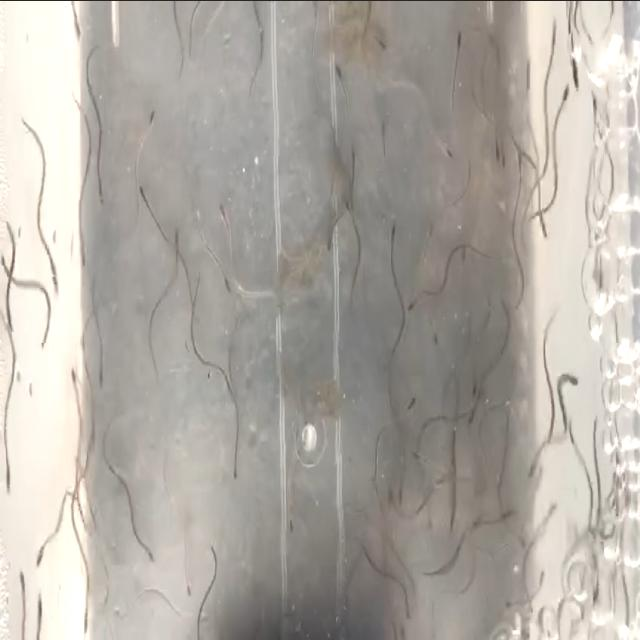active_glass_eel: (519, 42, 535, 100), (496, 134, 511, 192), (544, 488, 563, 532), (1, 457, 18, 505), (78, 592, 95, 640), (142, 536, 160, 576), (305, 0, 321, 45), (78, 433, 94, 474), (570, 53, 582, 107), (46, 247, 58, 300), (142, 106, 160, 140), (216, 198, 233, 234), (65, 364, 81, 402), (562, 361, 580, 394), (437, 508, 458, 536), (84, 409, 98, 450), (533, 453, 545, 499), (566, 400, 578, 446), (216, 372, 238, 397), (502, 580, 518, 614), (532, 568, 548, 602), (397, 594, 416, 622), (399, 386, 419, 412), (168, 228, 184, 260), (486, 136, 502, 168), (178, 570, 196, 598), (13, 564, 25, 604), (336, 54, 348, 94), (549, 12, 561, 52), (344, 140, 360, 170), (96, 358, 108, 396), (452, 21, 464, 59), (371, 30, 388, 56), (398, 472, 410, 508), (500, 501, 516, 528), (94, 180, 108, 210), (218, 268, 232, 298), (70, 13, 82, 47), (388, 216, 400, 250), (562, 76, 574, 110), (4, 294, 14, 334), (76, 239, 86, 279), (470, 364, 480, 404), (288, 498, 298, 538), (514, 145, 524, 183), (440, 136, 454, 163), (32, 547, 48, 569), (405, 294, 421, 316), (468, 404, 479, 436), (430, 328, 444, 353), (32, 591, 44, 618), (136, 182, 148, 208), (426, 220, 438, 246), (232, 454, 243, 482)
